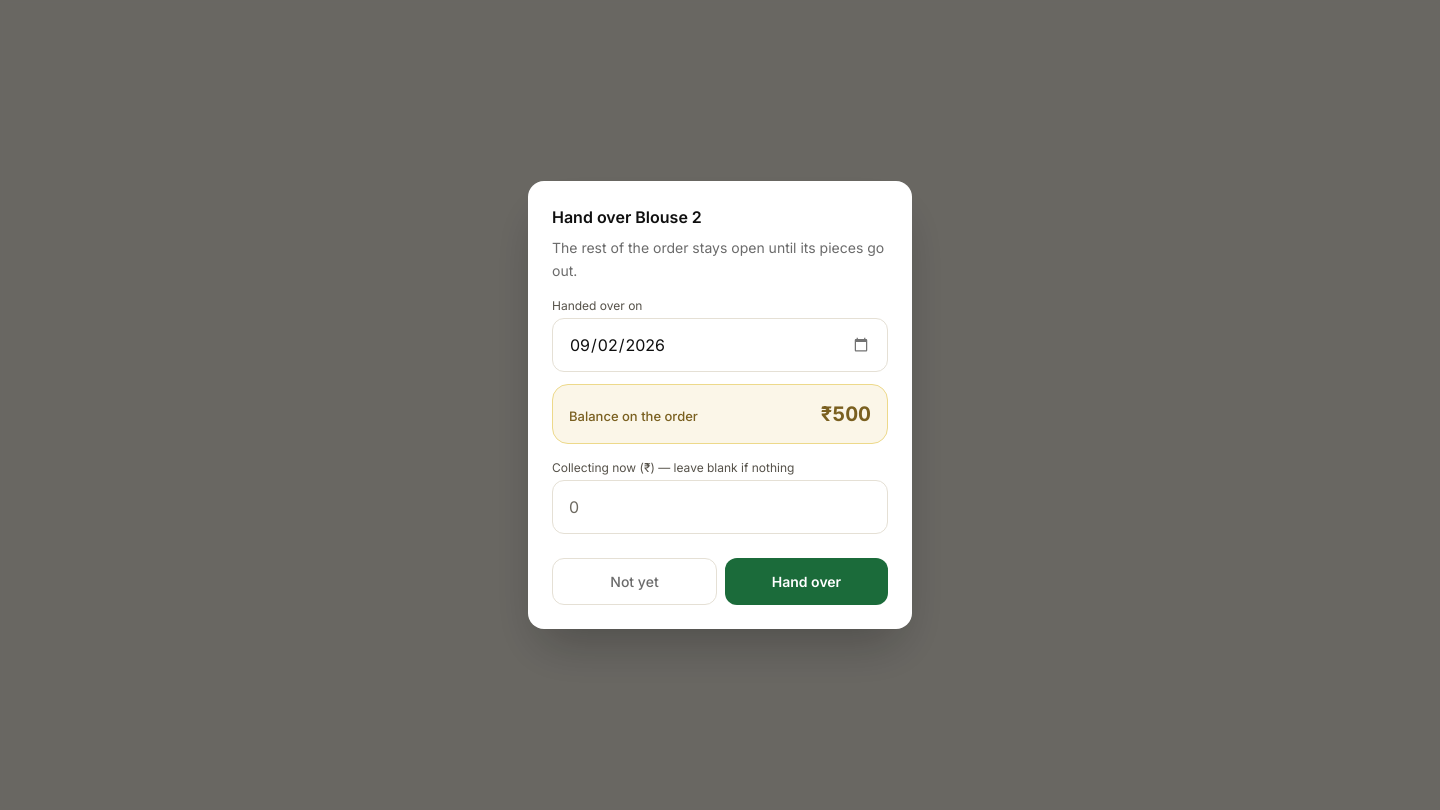
Test case: DeliverPieceDialog › refuses an amount larger than the order owes
Type "900" into the number field labelled "Collecting now (₹) — leave blank if nothing" at (720, 507), box [552,480,888,534]
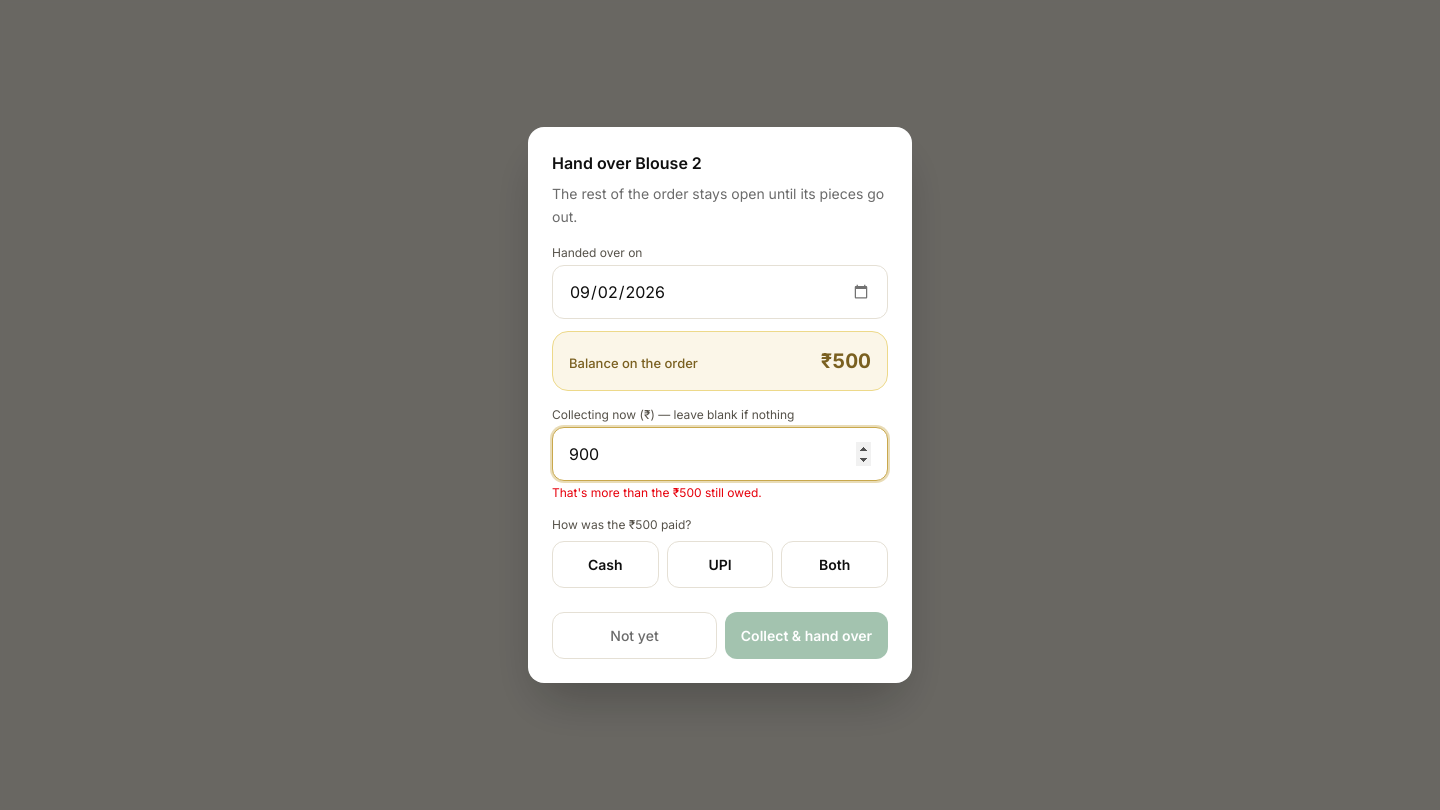
Check: the text "That's more than the ₹500 still owed." is shown, box [552,485,762,500]
Check: the button "Collect & hand over" is disabled, box [725,612,888,659]
